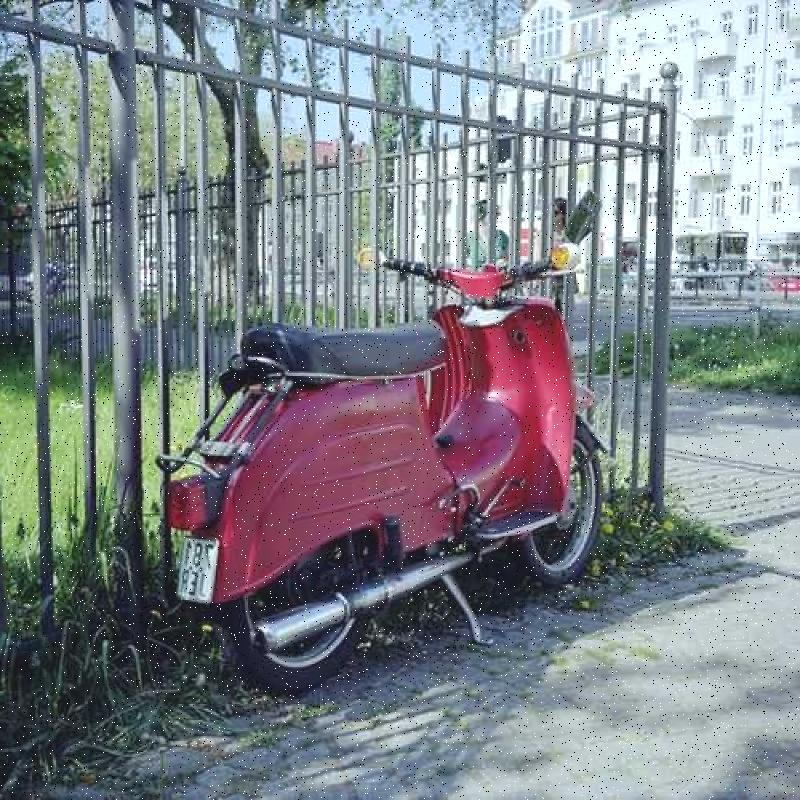bike: (149, 200, 638, 676)
